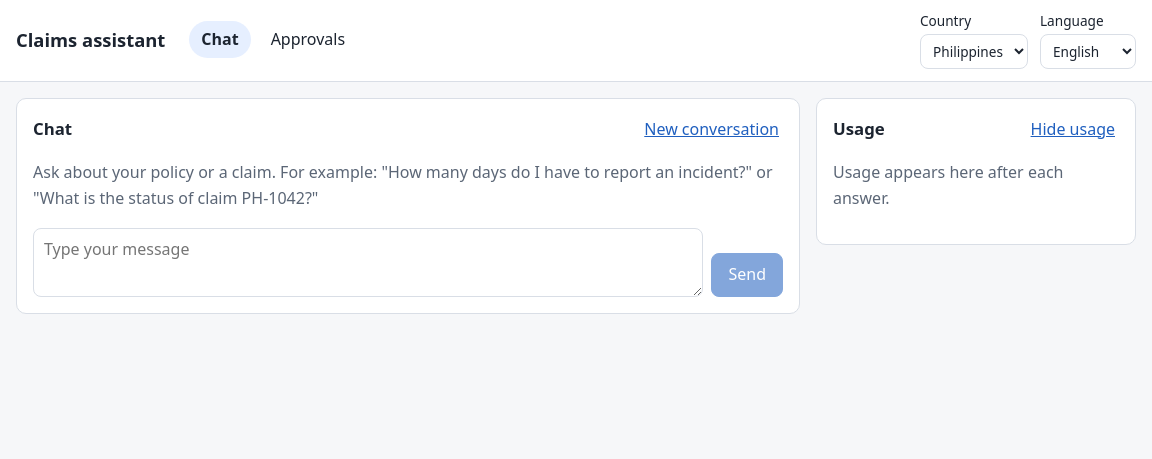
Test case: chat › shows a friendly error when the service fails
The width and height of the screenshot is (1152, 459).
Type "hello" into the text box labelled "Type your message".
click(368, 262); type("hello")  # box [33,228,704,297]
Then press Enter
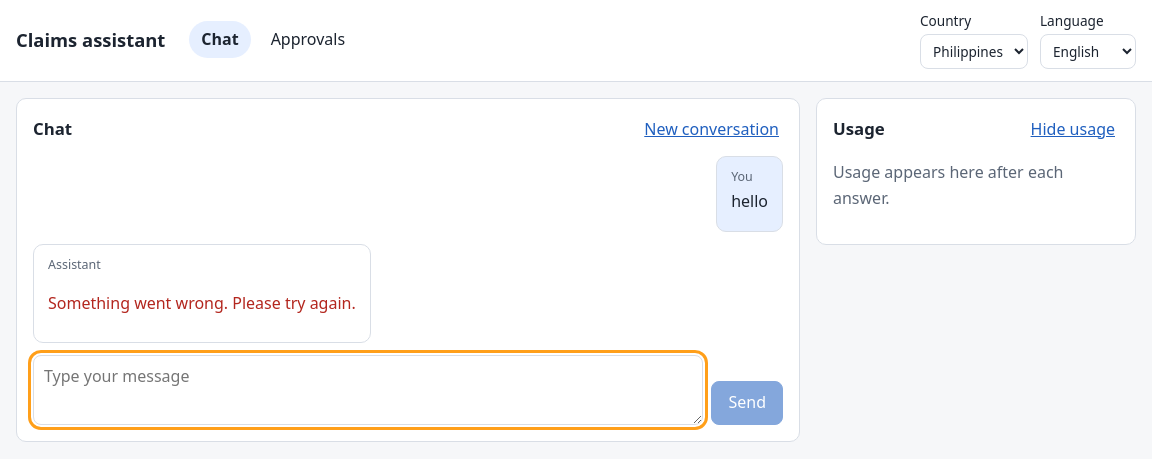
expect the message shows "Something went wrong": met, box [48,292,356,314]
